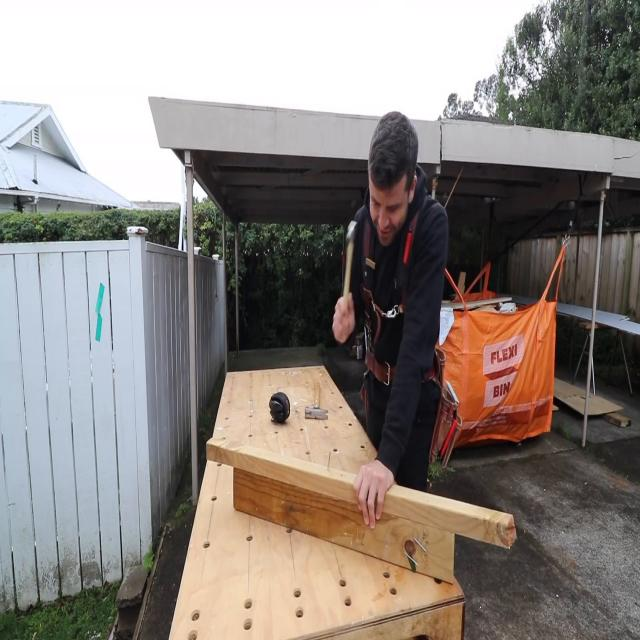hammer: (303, 377, 332, 424), (344, 221, 358, 298)
